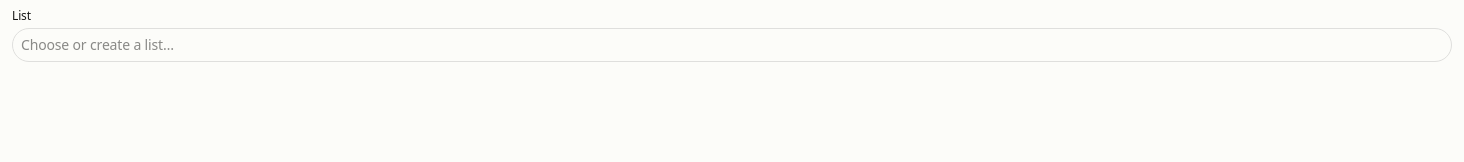
Test: memberships and the one-control combobox › wears the combobox contract: role, aria-expanded, aria-controls
Click the dropdown with test id "add-list-choice" at (732, 45), box [12,28,1452,62]
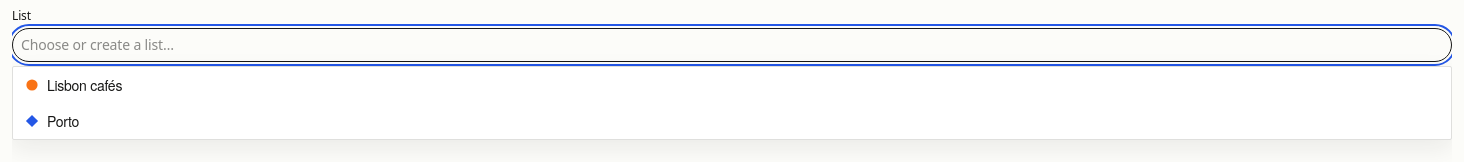
Now the dropdown with test id "add-list-choice" is expanded, box [12,28,1452,62]
Now the list is shown, box [13,67,1451,139]
Now the number of options is 2, box [13,67,1451,103]; [13,103,1451,139]
